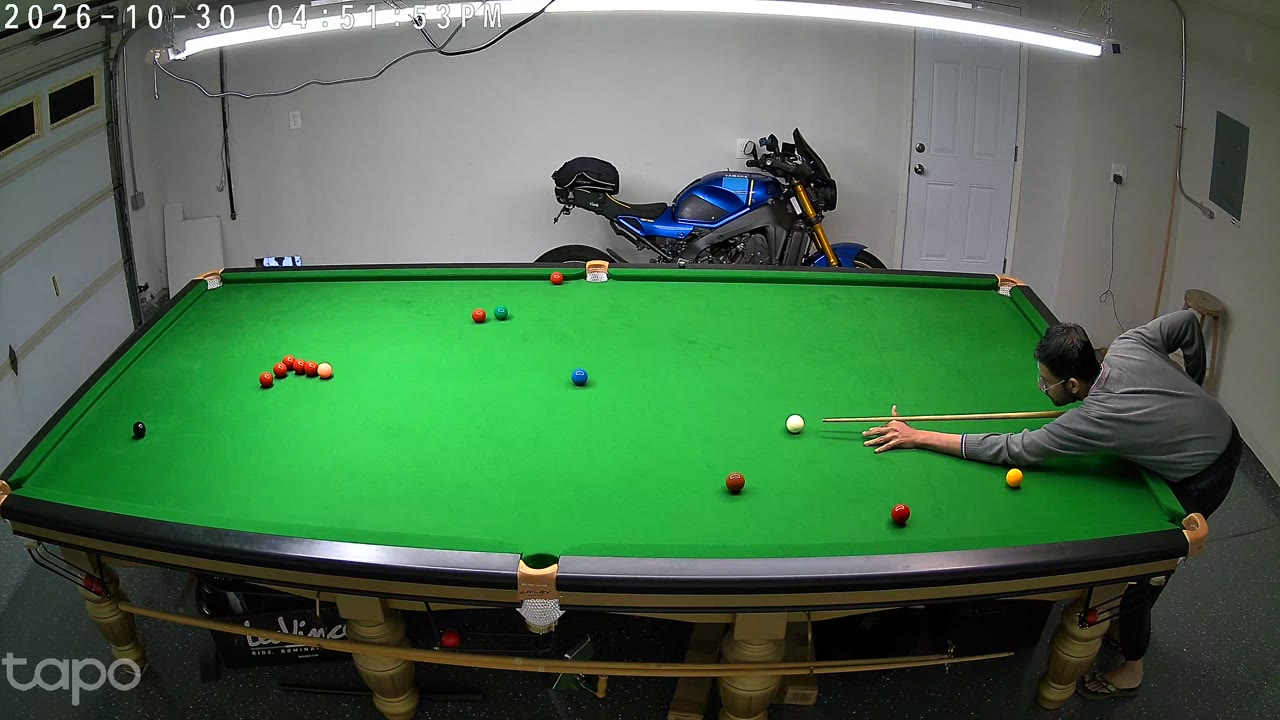black: (133, 420, 146, 441)
blue: (572, 367, 588, 389)
brown: (726, 471, 744, 497)
green: (495, 305, 507, 322)
pink: (319, 361, 331, 381)
red: (890, 502, 910, 529), (274, 361, 286, 381), (473, 307, 485, 326), (260, 371, 272, 390), (306, 360, 317, 378), (284, 354, 295, 371), (551, 271, 562, 288), (295, 358, 305, 376)
white: (786, 413, 804, 438)
yellow: (1006, 466, 1023, 491)
